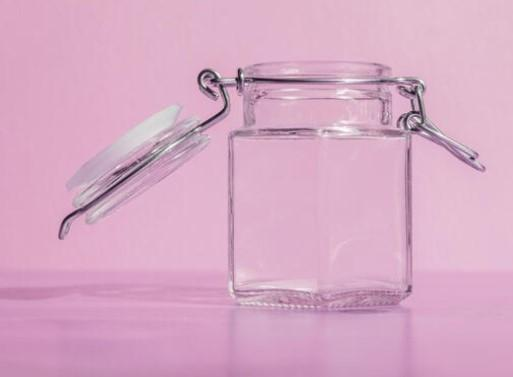glass: (63, 57, 481, 309)
